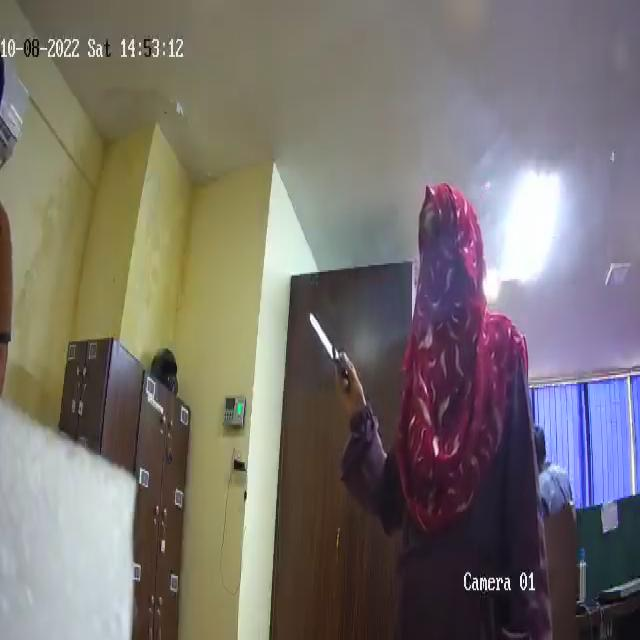Knife: (306, 311, 351, 391)
